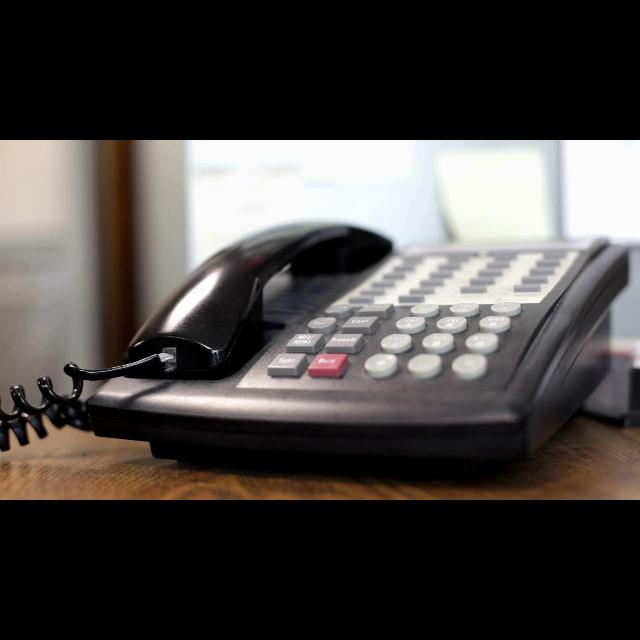Telephone-Set: (90, 219, 638, 476)
